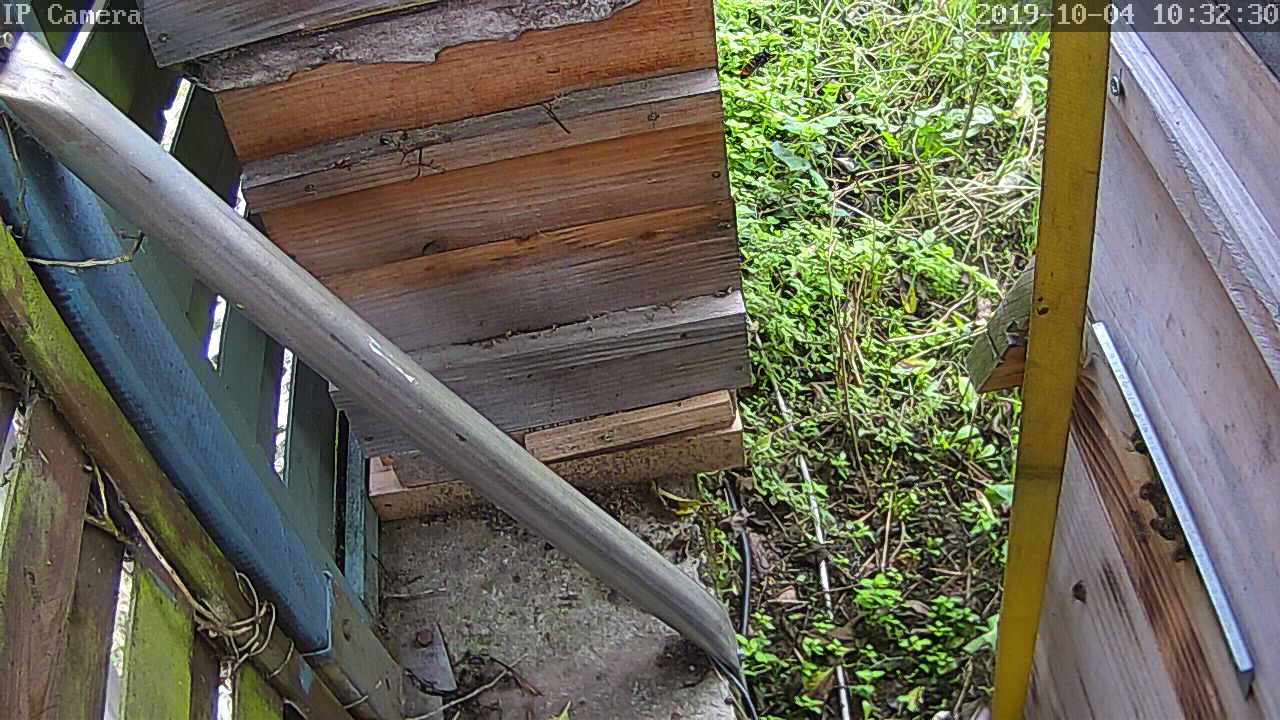bee: (1131, 484, 1175, 528), (1154, 531, 1191, 568), (1118, 434, 1151, 467), (1067, 577, 1091, 606)
hornet: (735, 41, 777, 84)
